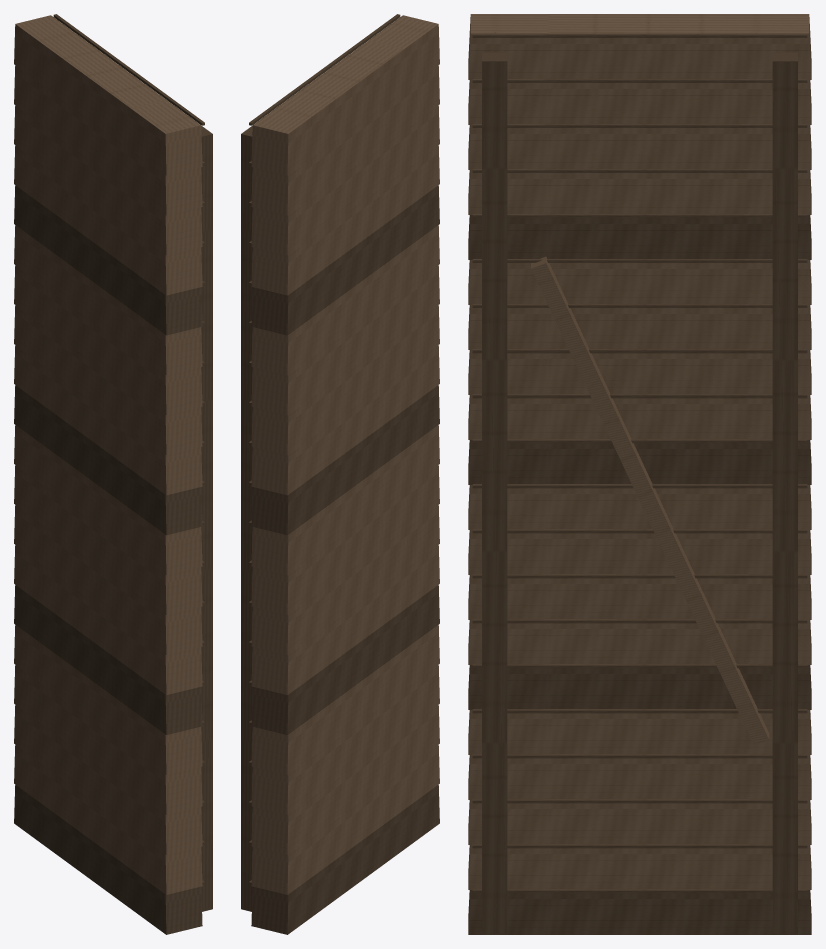
The model's file is village__04__old_warehouse__east_side__section_02.glb.
The picture shows the model from 3 angles, left to right: view 1: azimuth 30°, elevation 25°; view 2: azimuth 150°, elevation 25°; view 3: azimuth 270°, elevation 25°; orthographic projection. The views are drawn at different scales.
Visible parts, largest first — view 1: EastSide_Section_02; view 2: EastSide_Section_02; view 3: EastSide_Section_02.
Boxes of the visible parts, <box> form: EastSide_Section_02: <box>14,14,212,934</box>; EastSide_Section_02: <box>241,14,439,934</box>; EastSide_Section_02: <box>468,14,811,934</box>.
Size of the model in its own units: 0.3238 by 4.71 by 1.62.
2 materials, 2 textured.
